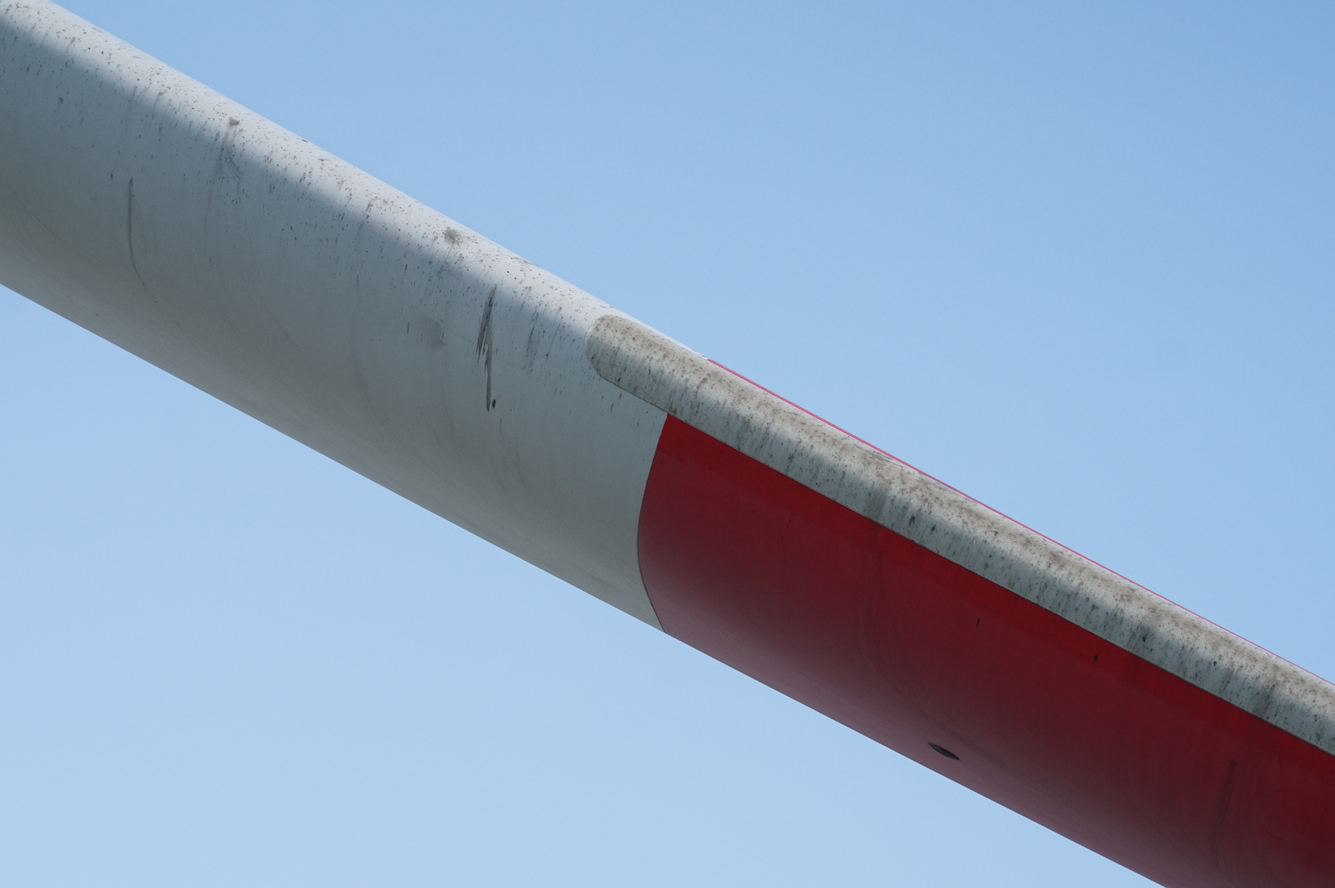Damage: (929, 740, 962, 762)
